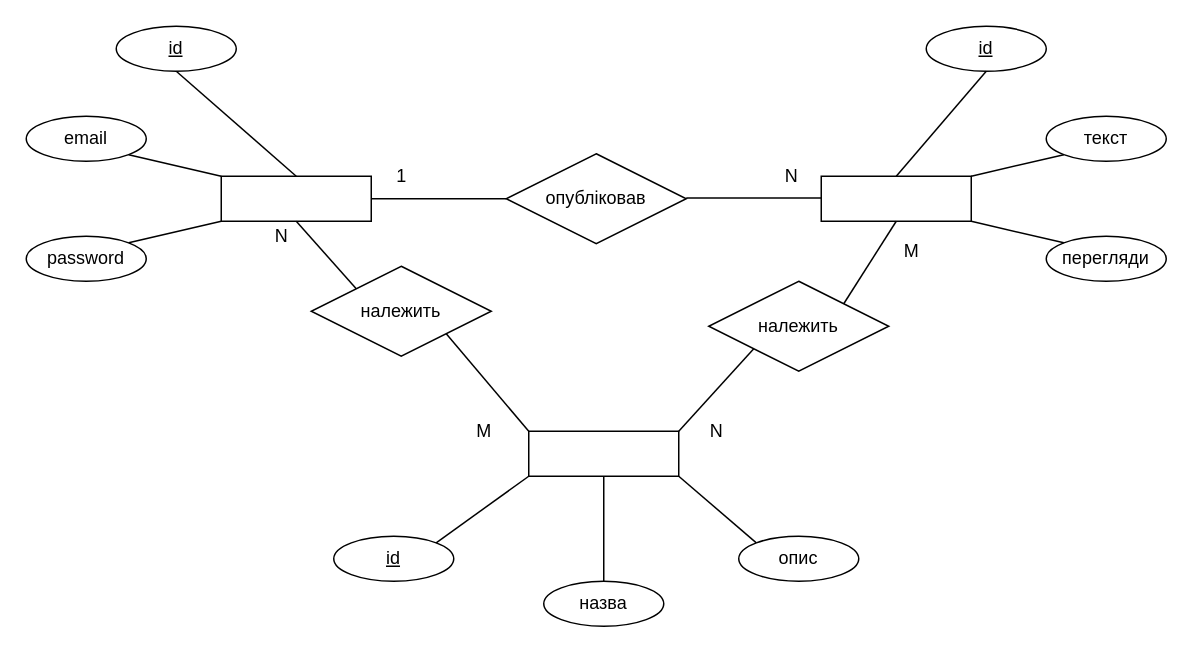
Some shapes in this 1193 by 653 pixel diagram are drawn without their labels. The centre of each missing label's shape, as x and y in pixels:
група: the point at 603,453
запис: the point at 895,198
користувач: the point at 295,198
